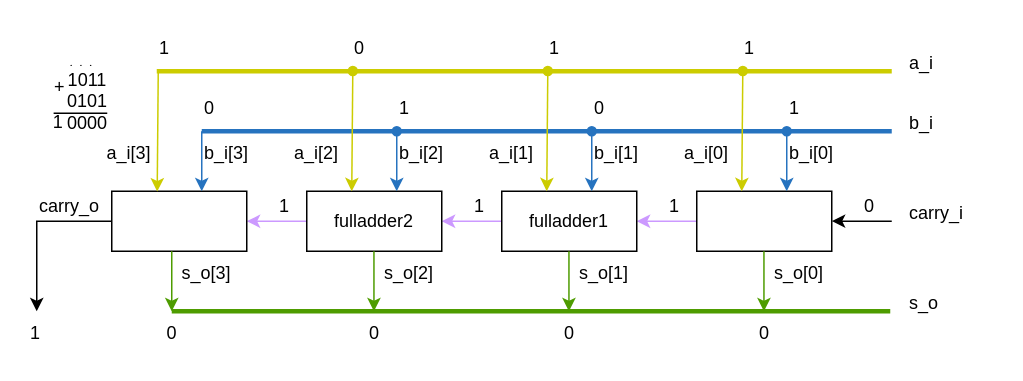
This 1023x381 diagram has some shape labels left out. Here are the shapes that lost their labels. From the top down, the centre of each, then its label:
the point at 178,220: fulladder3
the point at 763,220: fulladder0
